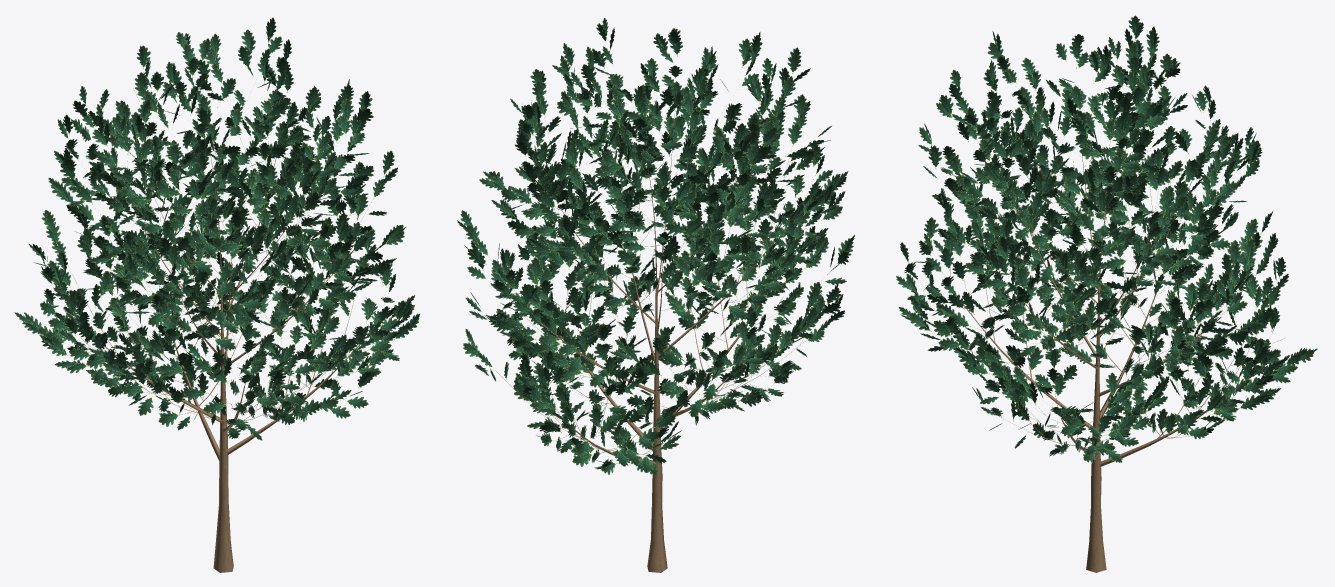
File: Boom.fbx
3 views of the same model, side by side, from view 1: azimuth 30°, elevation 25°; view 2: azimuth 150°, elevation 25°; view 3: azimuth 270°, elevation 25° (orthographic).
Parts seen in each view (by area): view 1: Boom; view 2: Boom; view 3: Boom.
Part boxes in pixels (x1,y1,x2,y2): Boom: (14,17,419,572); Boom: (457,18,854,572); Boom: (896,15,1317,572).
Bounding box in the file's own units: 1.53 × 2.09 × 1.56.
Materials: 2 (2 with a texture image).
